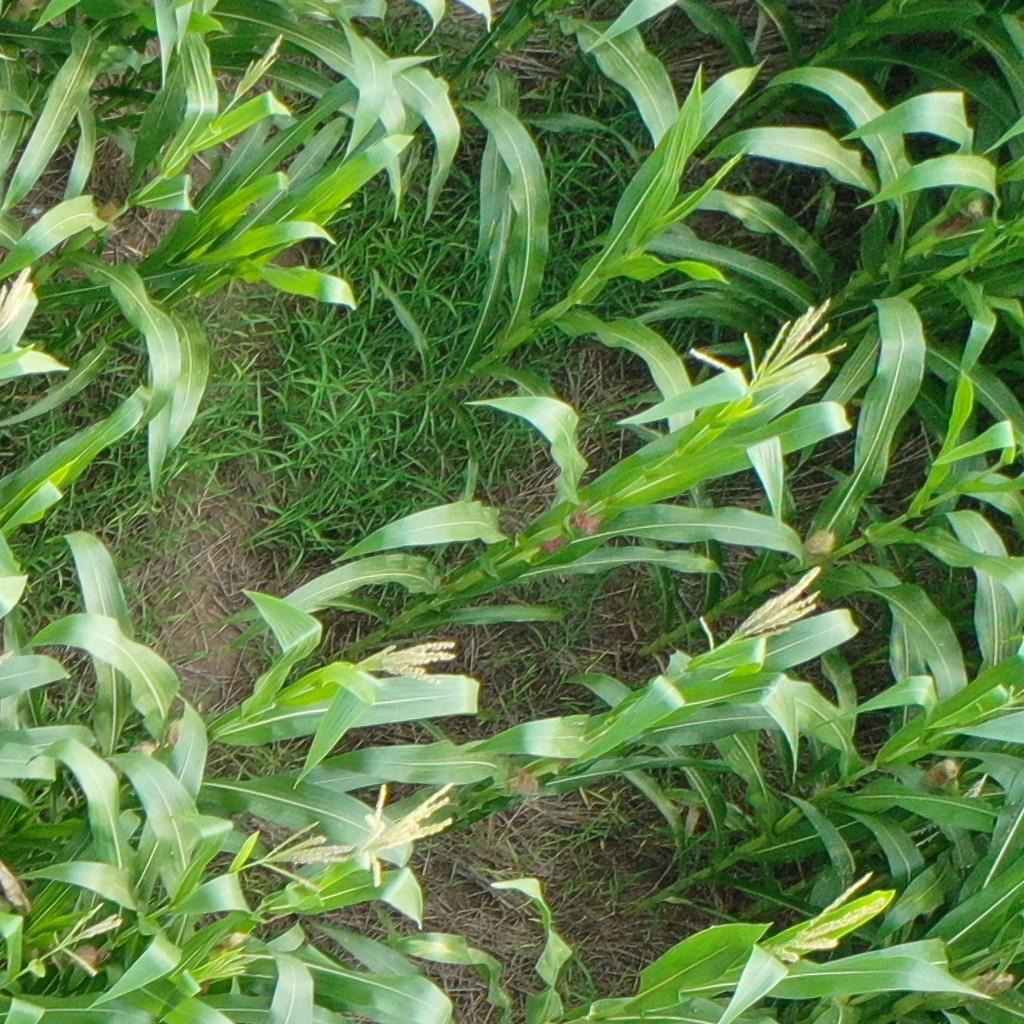Tassel: (684, 294, 856, 411), (690, 562, 828, 660), (771, 865, 889, 968), (356, 784, 458, 890), (251, 819, 357, 903), (48, 903, 126, 981), (354, 636, 460, 689), (235, 34, 286, 107), (193, 950, 265, 990), (1, 265, 36, 336), (1000, 682, 1024, 713)
